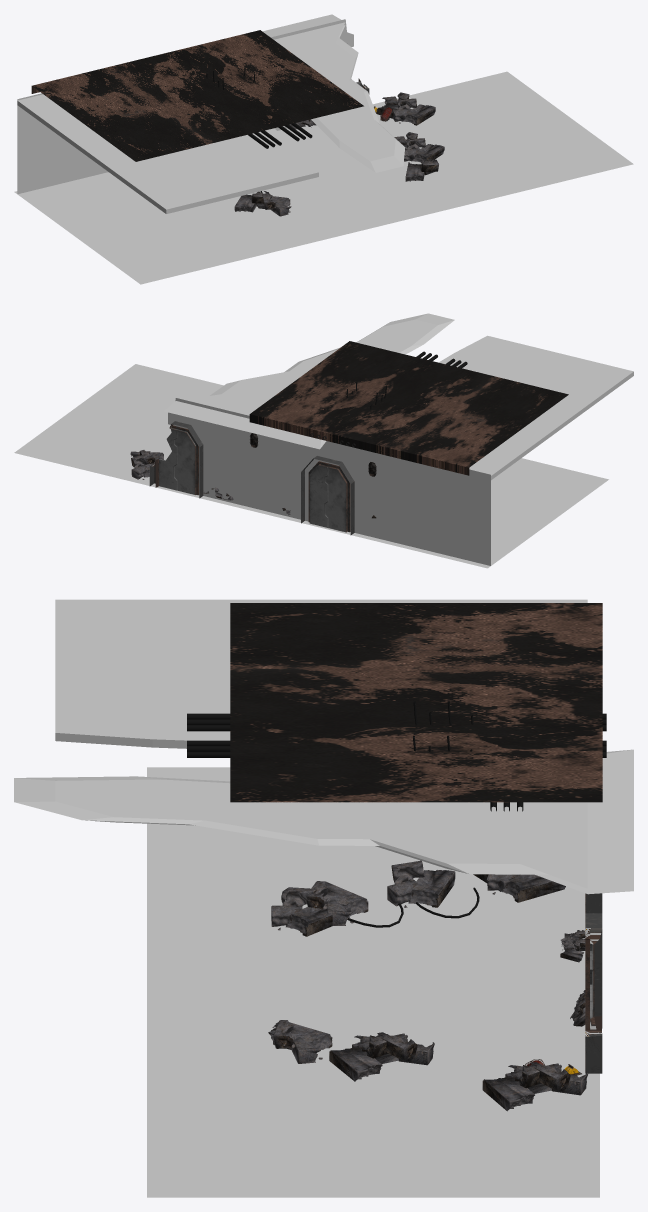
The picture shows the model from 3 angles, top to bottom: view 1: azimuth 30°, elevation 25°; view 2: azimuth 150°, elevation 25°; view 3: azimuth 270°, elevation 25°; orthographic projection. The views are drawn at different scales.
Parts seen in each view (by area): view 1: floor.001, ceeling2, ceiling, ceiling.002, wall, gareki.014, gareki.016, gareki.018, gareki.004, gareki.003, gareki.015; view 2: ceeling2, wall, floor.001, ceiling, ceiling.002, door, door.001, door.002, gareki.015; view 3: floor.001, ceeling2, ceiling.002, ceiling, door, gareki.005, gareki.004, gareki.016, gareki.018, gareki.014, gareki.003, gareki (+4 smaller).
Part boxes in pixels (box(x1,y1,x2,y2)): floor.001: box(14, 71, 633, 284); ceeling2: box(31, 30, 363, 161); ceiling: box(17, 94, 318, 213); ceiling.002: box(262, 14, 405, 172); wall: box(17, 19, 353, 194); gareki.014: box(392, 98, 435, 125); gareki.016: box(404, 138, 444, 163); gareki.018: box(405, 159, 438, 181); gareki.004: box(257, 193, 291, 216); gareki.003: box(234, 191, 271, 212); gareki.015: box(376, 92, 411, 121); ceeling2: box(249, 341, 568, 475); wall: box(168, 398, 490, 565); floor.001: box(14, 364, 608, 568); ceiling: box(439, 335, 633, 480); ceiling.002: box(164, 313, 454, 449); door: box(149, 421, 354, 535); door.001: box(309, 465, 346, 532); door.002: box(159, 428, 195, 494); gareki.015: box(131, 454, 162, 479); floor.001: box(147, 767, 599, 1197); ceeling2: box(230, 603, 602, 802); ceiling.002: box(14, 749, 633, 894); ceiling: box(55, 599, 587, 748); door: box(585, 893, 602, 1073); gareki.005: box(387, 860, 455, 907); gareki.004: box(271, 887, 350, 936); gareki.016: box(329, 1032, 387, 1081); gareki.018: box(268, 1020, 332, 1063); gareki.014: box(482, 1062, 540, 1111); gareki.003: box(306, 881, 368, 925); gareki: box(486, 874, 565, 902).
Bounding box in the file's own units: 1447 × 335 × 881.
